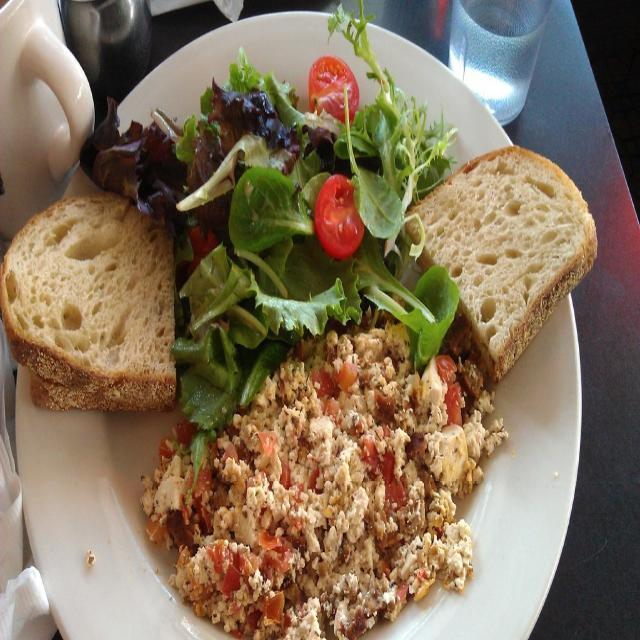Sandwich: (399, 139, 599, 383), (0, 183, 178, 416)
